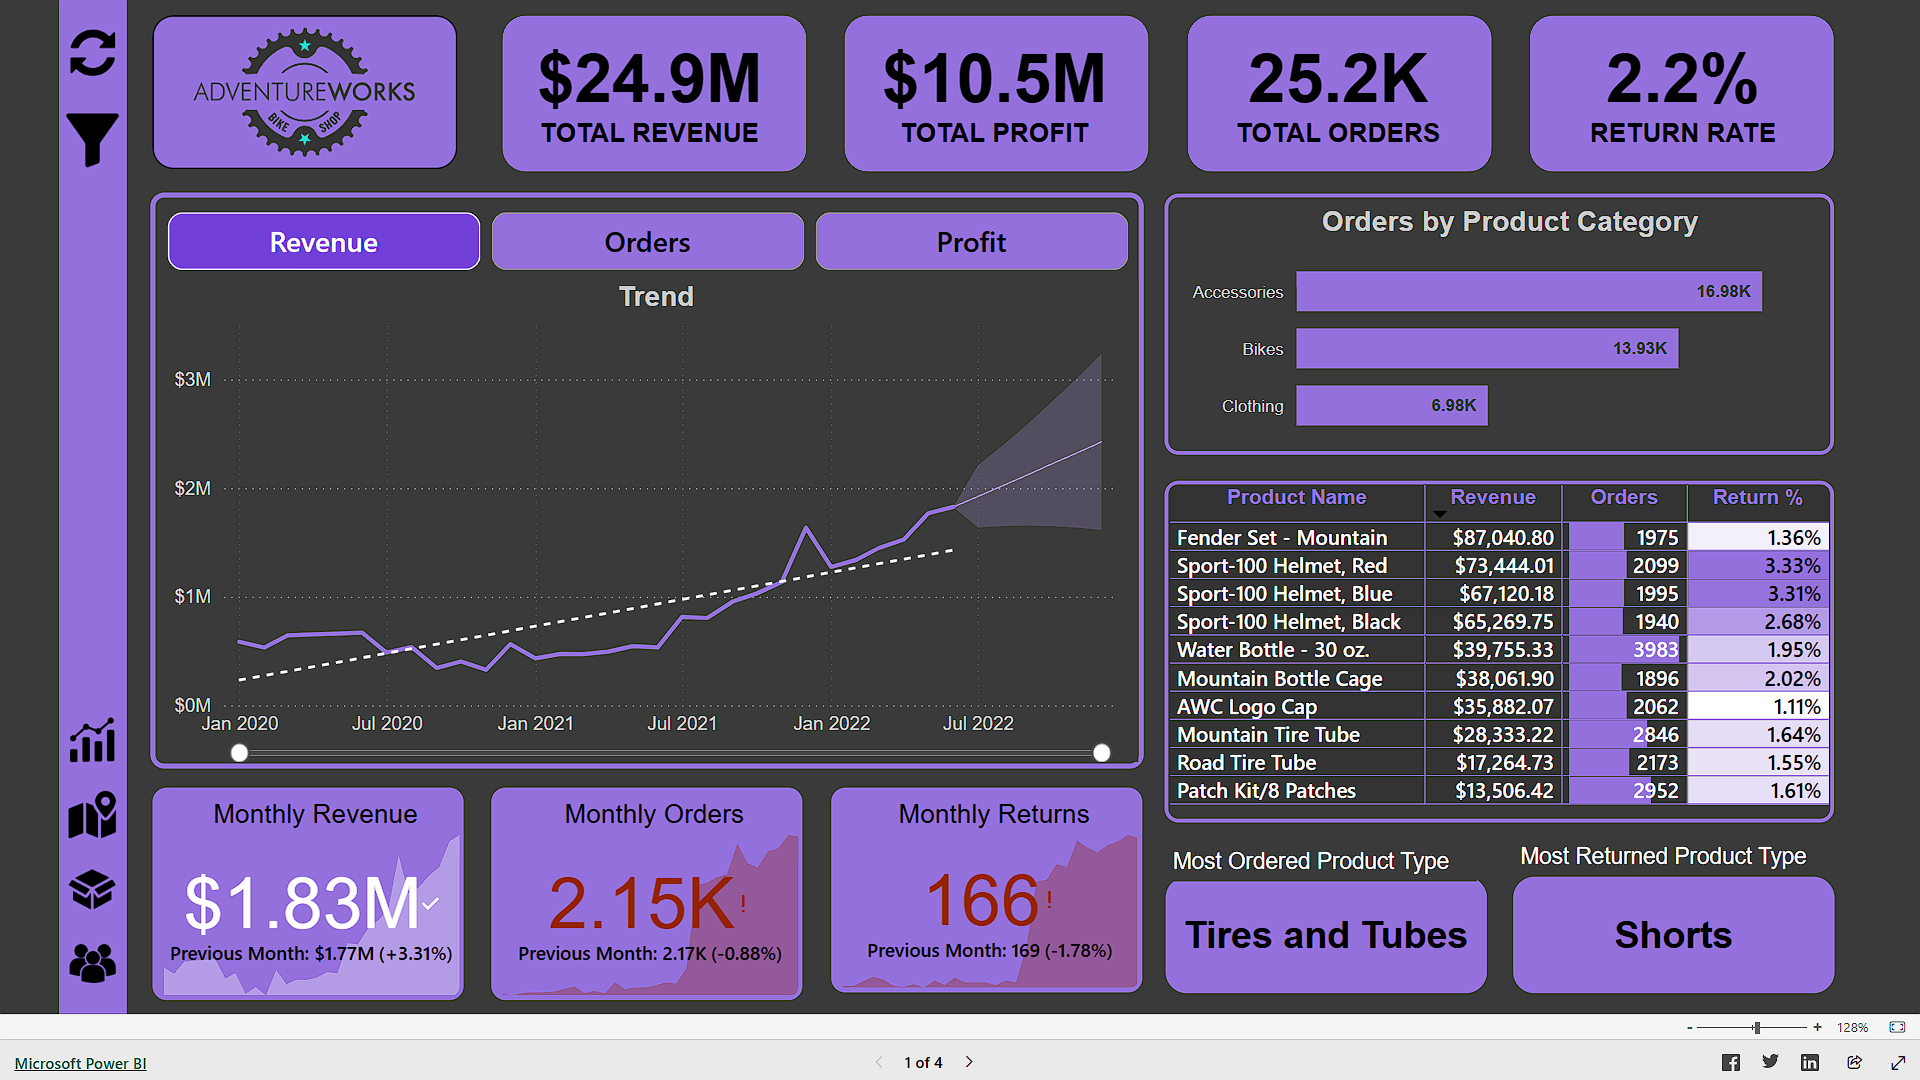

The page's visual inventory and layout, read from the dashboard file:
{"tool":"powerbi","page":{"name":"Executive Dashboard","canvas":[1280,720],"ordinal":0},"visuals":[{"type":"shape","box":[0,0,48.5,719.8],"z":0,"group":"g1"},{"type":"shape","box":[64.5,137.1,705.5,409.2],"z":0},{"type":"shape","box":[314.6,11.1,216,111],"z":1000},{"type":"image","box":[3.5,21,41,32.5],"z":1000,"group":"g1"},{"type":"shape","box":[558,11.1,216,111],"z":2000},{"type":"image","box":[4.8,79.6,38.1,40],"z":2000,"group":"g1"},{"type":"shape","box":[801.3,11.1,216,111],"z":3000},{"type":"image","box":[3.4,508.3,40.8,33.3],"z":3000,"group":"g2"},{"type":"shape","box":[1044.6,11.1,216,111],"z":4000},{"type":"image","box":[3.5,561.3,40.9,33.6],"z":4000,"group":"g2"},{"type":"card","fields":{"Values":["_Measure Table.Total Revenue"]},"box":[311.1,0.1,216.1,124.4],"z":5000},{"type":"image","box":[3.2,614.5,41.1,33.7],"z":5000,"group":"g2"},{"type":"card","fields":{"Values":["_Measure Table.Profit"]},"box":[556,0.1,215.2,124.4],"z":6000},{"type":"image","box":[3.7,667.8,40.6,32.6],"z":6000,"group":"g2"},{"type":"card","fields":{"Values":["_Measure Table.Total Orders"]},"box":[800,0.1,216.1,124.4],"z":7000},{"type":"card","fields":{"Values":["_Measure Table.Return Rate"]},"box":[1044.9,0.1,215.2,124.4],"z":8000},{"type":"clusteredBarChart","title":"Orders by Product Category","fields":{"Y":["_Measure Table.Total Orders"],"Category":["Product Category Lookup.Category Name"]},"box":[785,137.1,475.7,185.7],"z":9000},{"type":"kpi","title":"Monthly Revenue","fields":{"Indicator":["_Measure Table.Total Revenue"],"TrendLine":["Calendar Lookup.Start of Month"],"Goal":["_Measure Table.Previous Month Revenue"]},"box":[66.4,559.1,221,150.9],"z":10000},{"type":"kpi","title":"Monthly Orders","fields":{"TrendLine":["Calendar Lookup.Start of Month"],"Indicator":["_Measure Table.Total Orders"],"Goal":["_Measure Table.Previous Month Order"]},"box":[307.3,559.1,221,150.9],"z":11000},{"type":"kpi","title":"Monthly Returns","fields":{"TrendLine":["Calendar Lookup.Start of Month"],"Indicator":["_Measure Table.Total Returns"],"Goal":["_Measure Table.Previous Month Products Returned"]},"box":[548.2,559.1,220.9,145.5],"z":12000},{"type":"card","fields":{"Values":["Min(Product Subcategory Lookup.Subcategory_Name)"]},"box":[785.5,622.7,228,82.7],"z":13000},{"type":"textbox","box":[785.5,596.4,220.9,29.1],"z":14000},{"type":"textbox","box":[1032.7,593.6,228.2,29.1],"z":15000},{"type":"tableEx","fields":{"Values":["Product Lookup.Product_Name","_Measure Table.Total Revenue","_Measure Table.Total Orders","_Measure Table.Return Rate"]},"box":[785,341.4,475,242.9],"z":16000},{"type":"card","fields":{"Values":["Min(Product Subcategory Lookup.Subcategory_Name)"]},"box":[1032.7,622.7,228.2,82.7],"z":17000},{"type":"image","box":[66.4,10.9,216,109],"z":18000},{"type":"group","id":"g1","title":"Group 1","box":[0,0,48.5,719.8],"z":19000},{"type":"advancedSlicerVisual","fields":{"Values":["Parameter.Parameter"]},"box":[71.6,145.1,694.4,51.4],"z":20000},{"type":"lineChart","title":"Trend","fields":{"Y":["_Measure Table.Profit"],"Category":["Calendar Lookup.Date_Hierarchy.Year","Calendar Lookup.Date_Hierarchy.Quarter","Calendar Lookup.Date_Hierarchy.Start of Month","Calendar Lookup.Date_Hierarchy.Day Name","Calendar Lookup.Date_Hierarchy.Date"]},"box":[71.6,199.6,694.4,341.7],"z":21000},{"type":"group","id":"g2","title":"Group 3","box":[3.2,508.3,41.2,192.2],"z":22001,"group":"g1"}]}

Visuals, with their boxes on the page's 1280x720 design canvas (x1, y1, x2, y2). These are canvas units, not pixel positions in the 1920x1080 screenshot, which may show the page scaled, cropped or inside an application window:
shape: x1=0, y1=0, x2=48, y2=720
shape: x1=64, y1=137, x2=770, y2=546
shape: x1=315, y1=11, x2=531, y2=122
image: x1=4, y1=21, x2=44, y2=54
shape: x1=558, y1=11, x2=774, y2=122
image: x1=5, y1=80, x2=43, y2=120
shape: x1=801, y1=11, x2=1017, y2=122
image: x1=3, y1=508, x2=44, y2=542
shape: x1=1045, y1=11, x2=1261, y2=122
image: x1=4, y1=561, x2=44, y2=595
card - _Measure Table.Total Revenue: x1=311, y1=0, x2=527, y2=124
image: x1=3, y1=614, x2=44, y2=648
card - _Measure Table.Profit: x1=556, y1=0, x2=771, y2=124
image: x1=4, y1=668, x2=44, y2=700
card - _Measure Table.Total Orders: x1=800, y1=0, x2=1016, y2=124
card - _Measure Table.Return Rate: x1=1045, y1=0, x2=1260, y2=124
"Orders by Product Category" clusteredBarChart: x1=785, y1=137, x2=1261, y2=323
"Monthly Revenue" kpi: x1=66, y1=559, x2=287, y2=710
"Monthly Orders" kpi: x1=307, y1=559, x2=528, y2=710
"Monthly Returns" kpi: x1=548, y1=559, x2=769, y2=705
card - Min(Product Subcategory Lookup.Subcategory_Name): x1=786, y1=623, x2=1014, y2=705
textbox: x1=786, y1=596, x2=1006, y2=626
textbox: x1=1033, y1=594, x2=1261, y2=623
tableEx - Product Lookup.Product_Name x _Measure Table.Total Revenue: x1=785, y1=341, x2=1260, y2=584
card - Min(Product Subcategory Lookup.Subcategory_Name): x1=1033, y1=623, x2=1261, y2=705
image: x1=66, y1=11, x2=282, y2=120
"Group 1" group: x1=0, y1=0, x2=48, y2=720
advancedSlicerVisual - Parameter.Parameter: x1=72, y1=145, x2=766, y2=196
"Trend" lineChart: x1=72, y1=200, x2=766, y2=541
"Group 3" group: x1=3, y1=508, x2=44, y2=700
